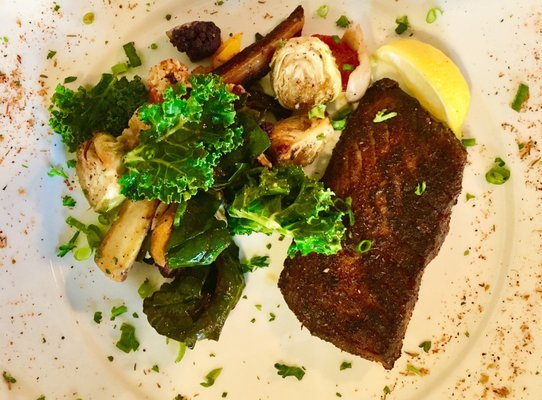curry: (119, 72, 243, 204), (47, 70, 148, 152)
